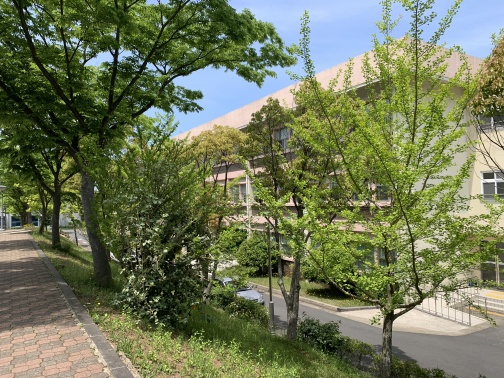College Of Education: (165, 42, 499, 340)
